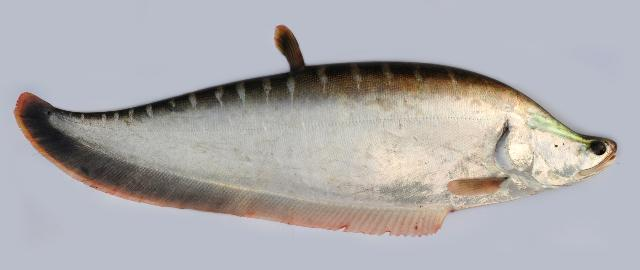Mulut: (570, 135, 626, 189)
Sirip Punggung: (264, 22, 326, 82), (445, 170, 513, 201)
